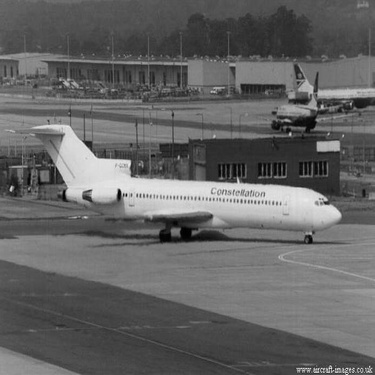airplane: (8, 105, 354, 256), (254, 56, 340, 146), (273, 52, 373, 113)
